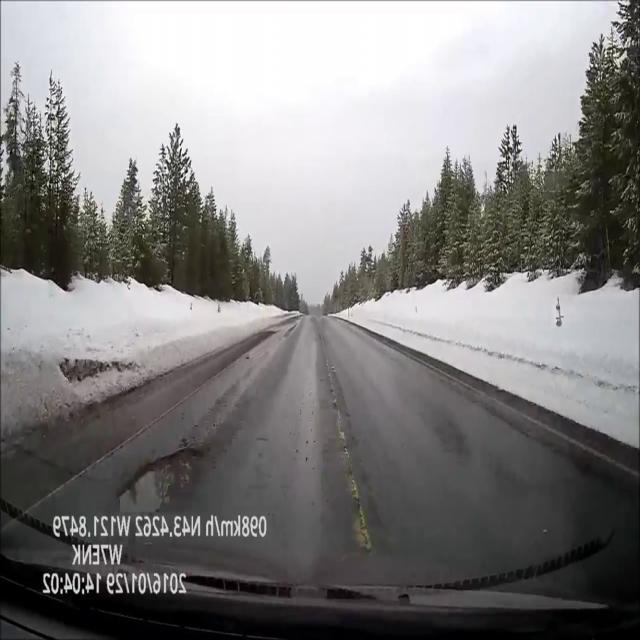pothole: (115, 438, 207, 515)
